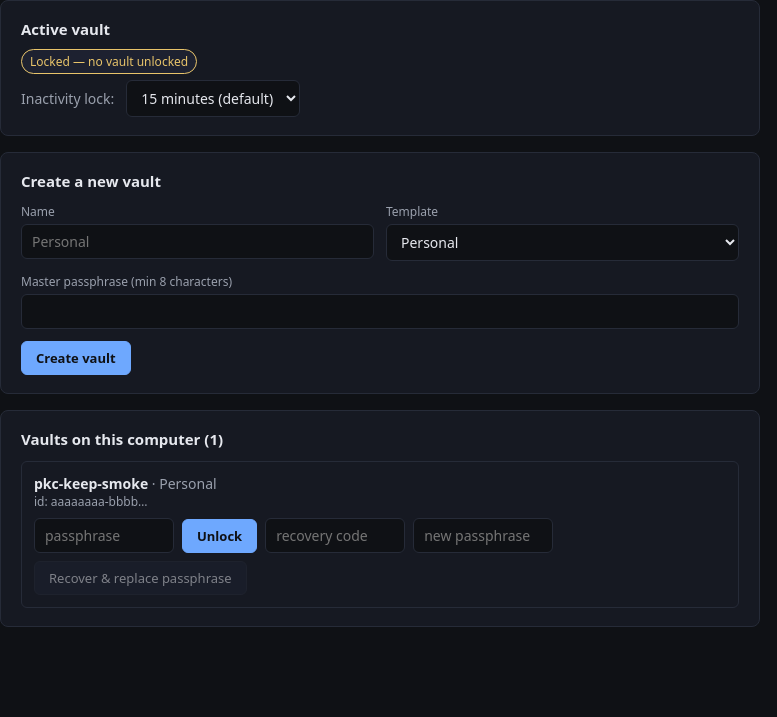
Scenario: VaultView passphrase fields › rejects an empty unlock field without invoking authentication
The width and height of the screenshot is (777, 717).
What coordinates should you click on to do the following:
click the button "Unlock"
I would click on:
 (220, 536)
Its box is [182,518,257,552].
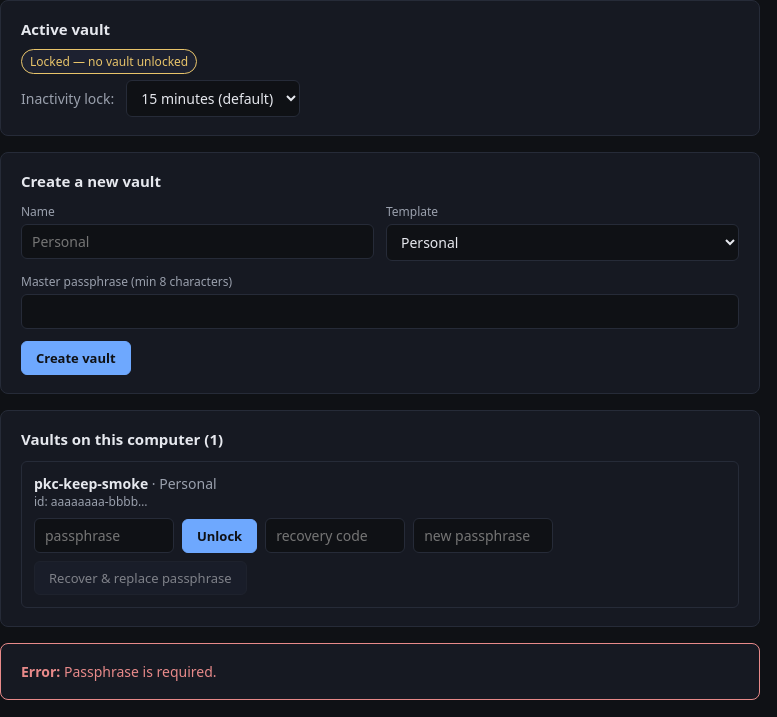
Result: the text "Error: Passphrase is required." is shown at [0,643,760,700]
